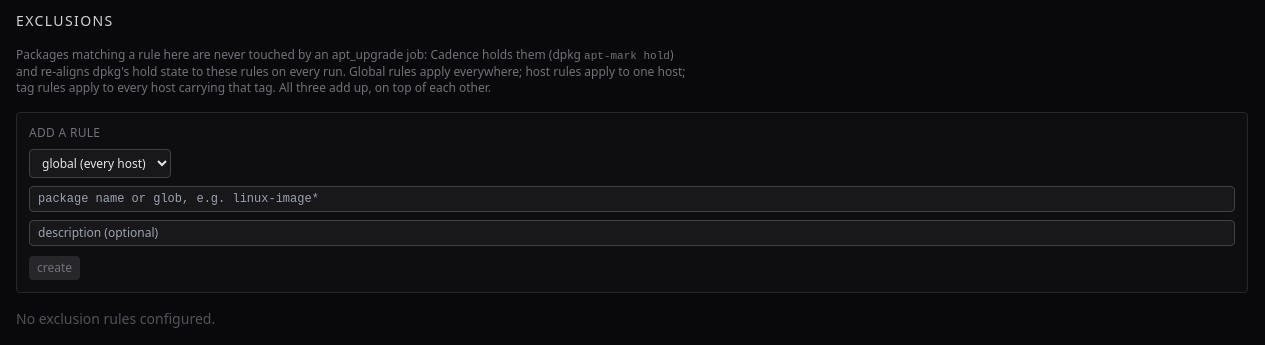
Test: ExclusionsView › requires a host before the create button enables, for a host-scoped rule
The width and height of the screenshot is (1265, 345).
Check: the text "No exclusion rules configured." is shown, box x1=16 y1=309 x2=215 y2=328
Type "postgresql-14" into the field with placeholder "package name or glob, e.g. linux-image*".
click(632, 199); type("postgresql-14")  # box x1=29 y1=186 x2=1235 y2=212
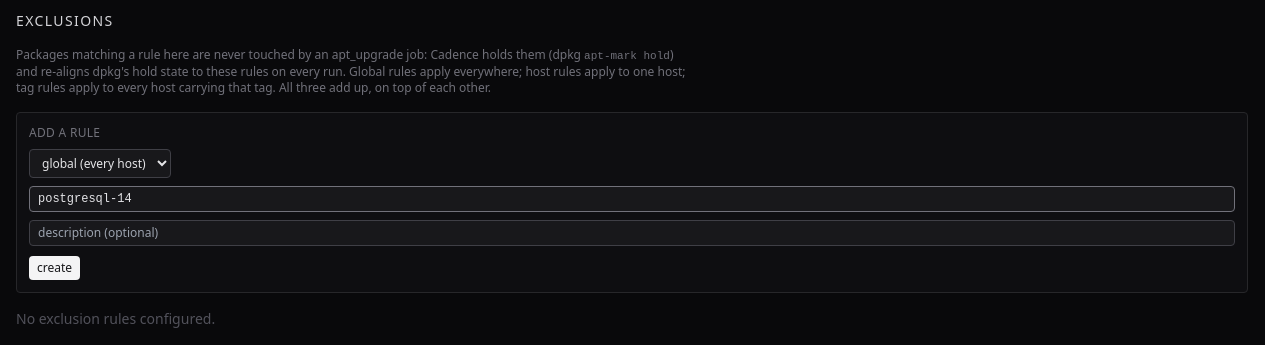
Select "one host" in the dropdown named "Scope" at (100,164), box x1=29 y1=149 x2=171 y2=178
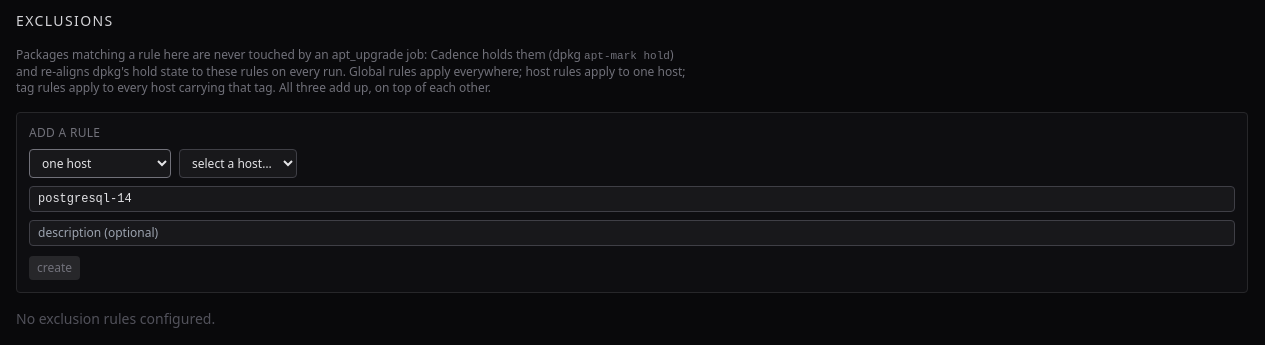
Check: the button "create" is disabled, box x1=29 y1=256 x2=80 y2=280
Select "vm-japp" in the dropdown named "Host" at (238,164), box x1=179 y1=149 x2=297 y2=178
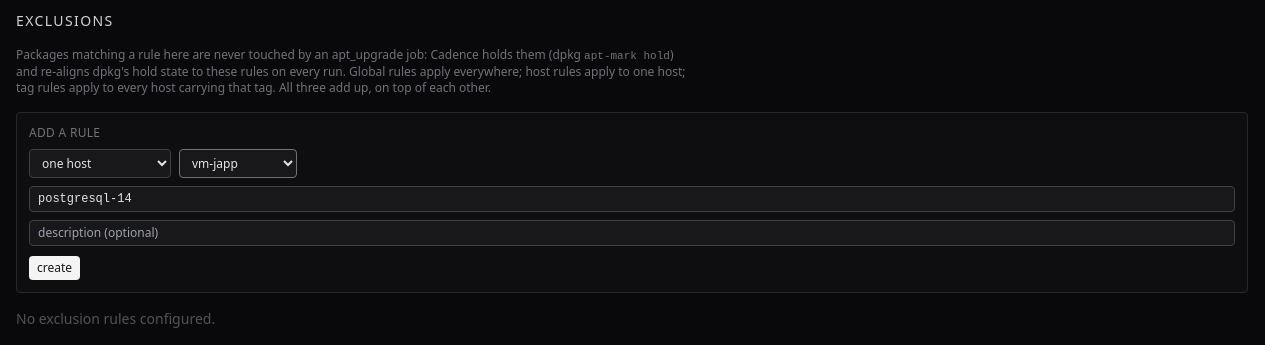
Check: the button "create" is enabled, box x1=29 y1=256 x2=80 y2=280
